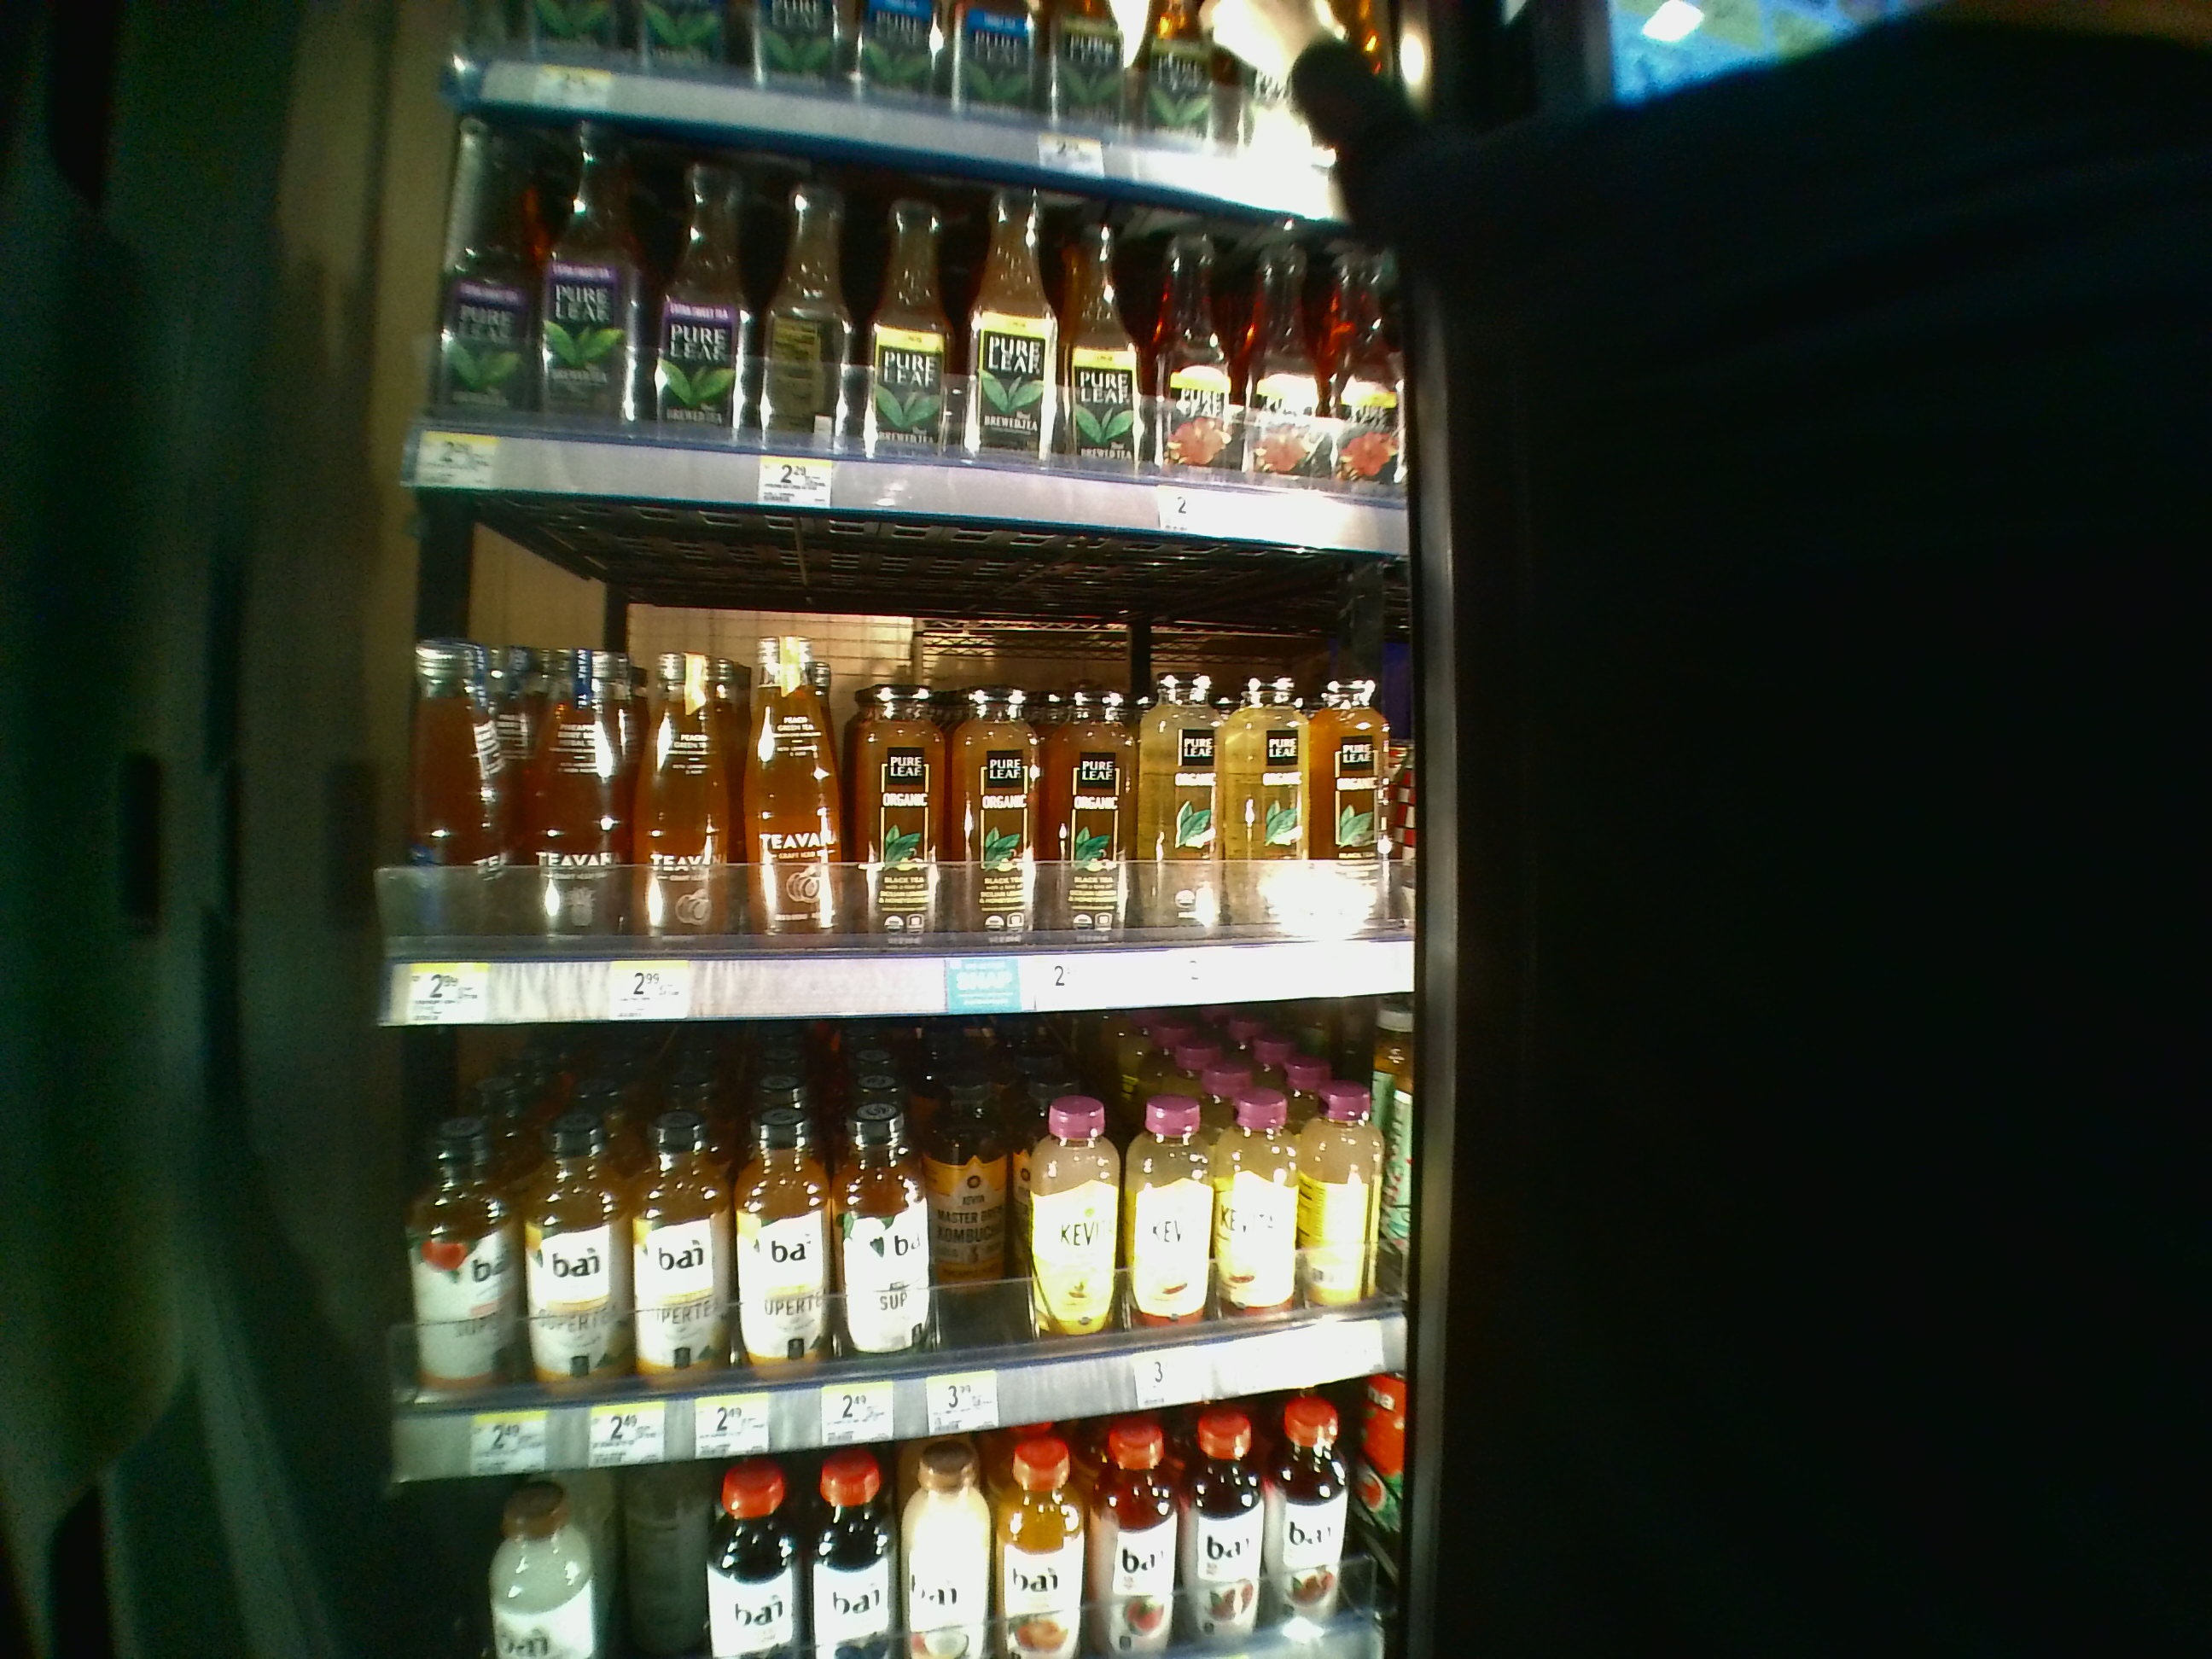shelf: (387, 505, 1423, 1023), (380, 1030, 1428, 1474), (404, 89, 1428, 493)
